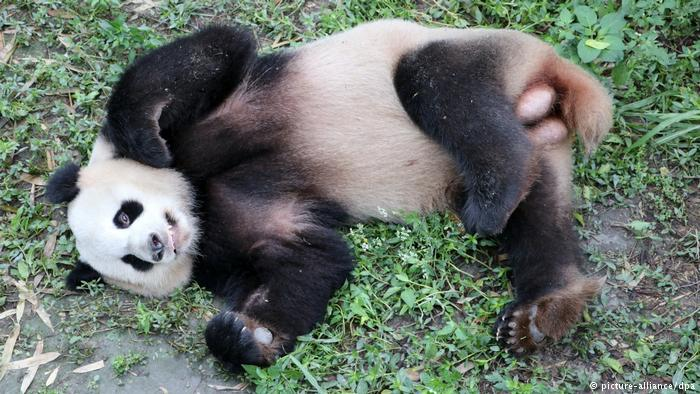panda: (51, 13, 634, 380)
